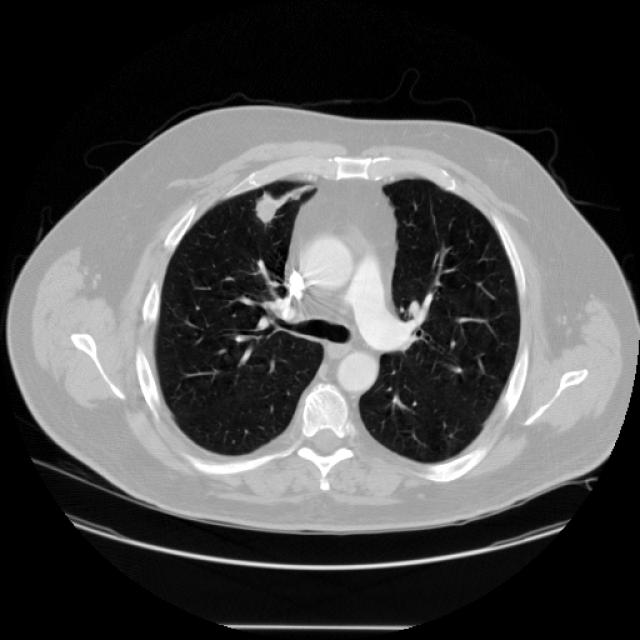nodule: (242, 184, 290, 231)
